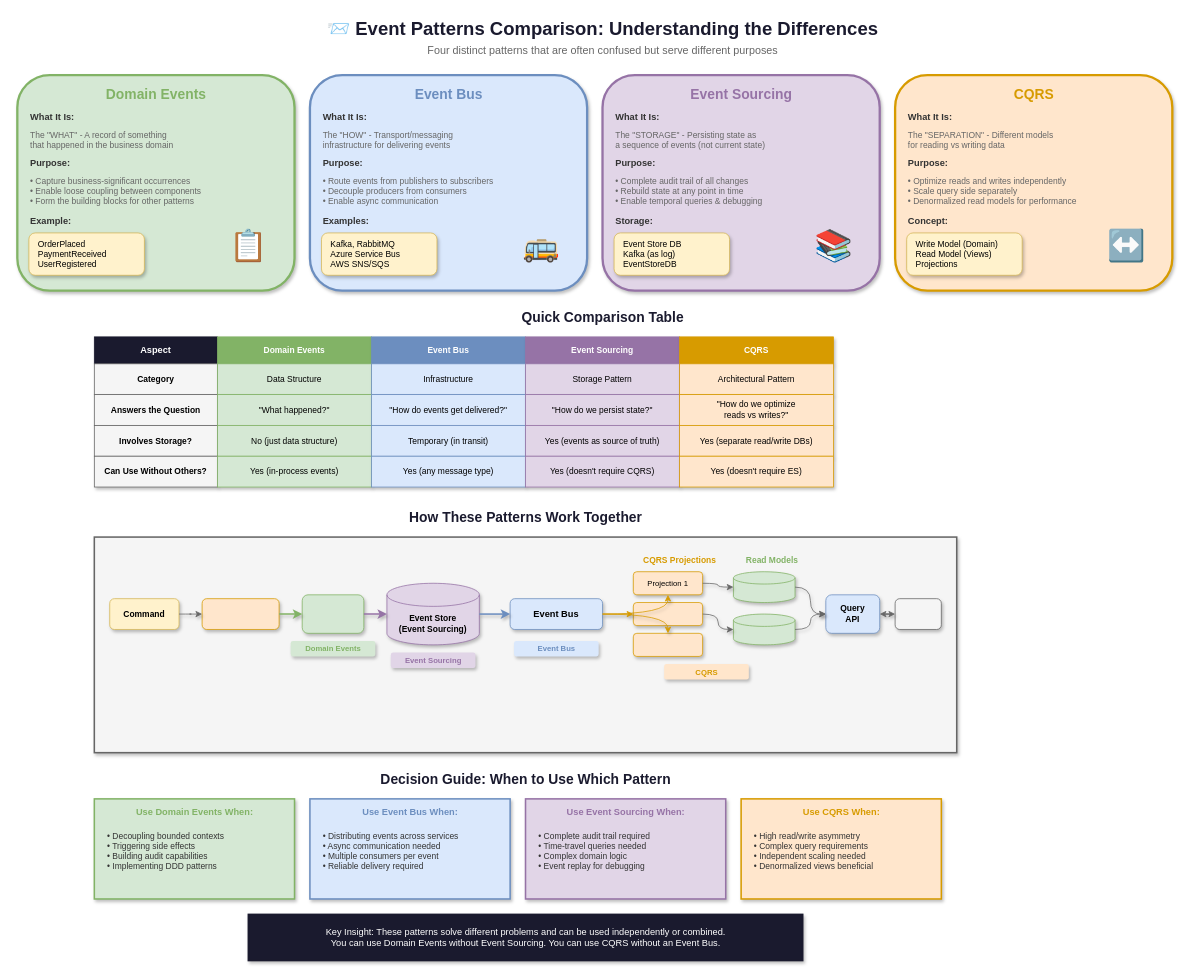
Some shapes in this 1191 by 979 pixel diagram are drawn without their labels. The centre of each missing label's shape, as x and y in pixels:
"Aggregate" belongs at (241,615).
"Client" belongs at (918,615).
"Dashboard" belongs at (765,588).
"Domain Event" belongs at (333,615).
"Projection 2" belongs at (668,615).
"Projection N" belongs at (668,645).
"Reports" belongs at (765,630).
